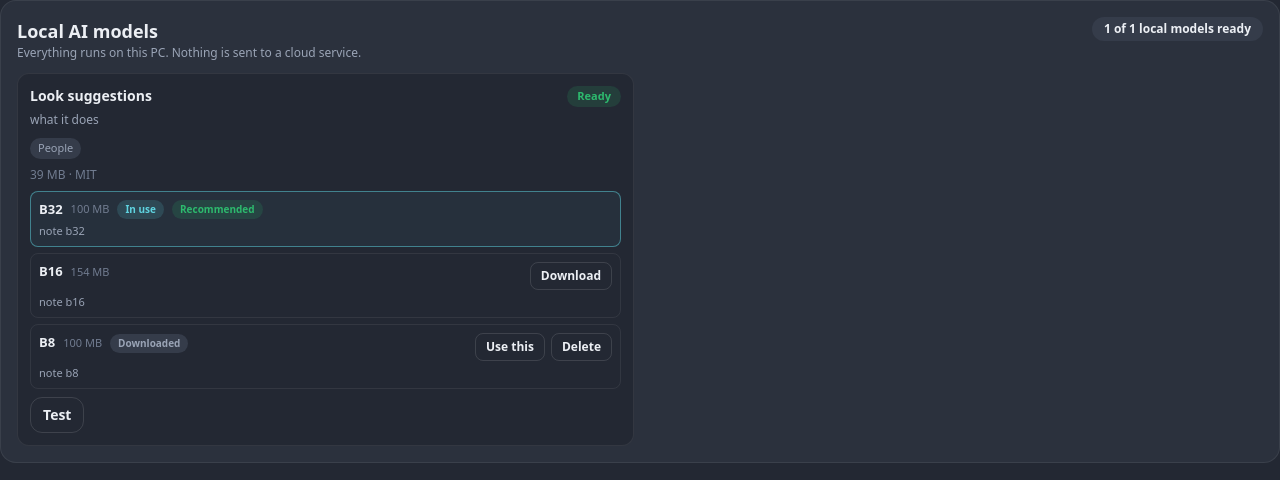
model sizes › Delete asks once more before anything is removed, and says how much space came back
The image size is (1280, 480).
Click the button with aria-label "Delete the b8 size of Look suggestions" at {"x": 582, "y": 347}, box [551,333,612,361]
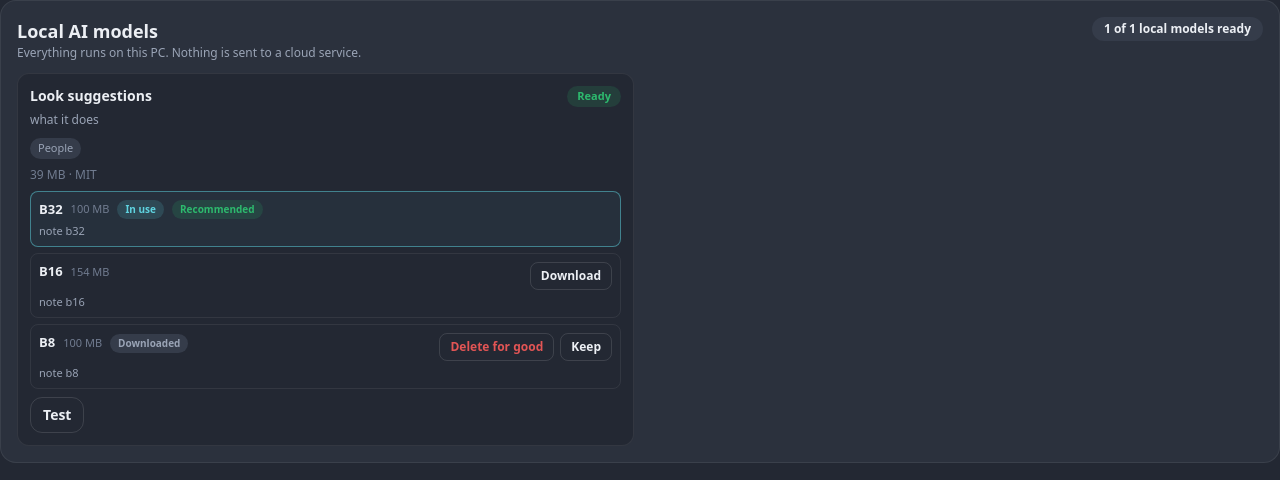
Click the button "Keep" at {"x": 586, "y": 347}, box [560,333,612,361]
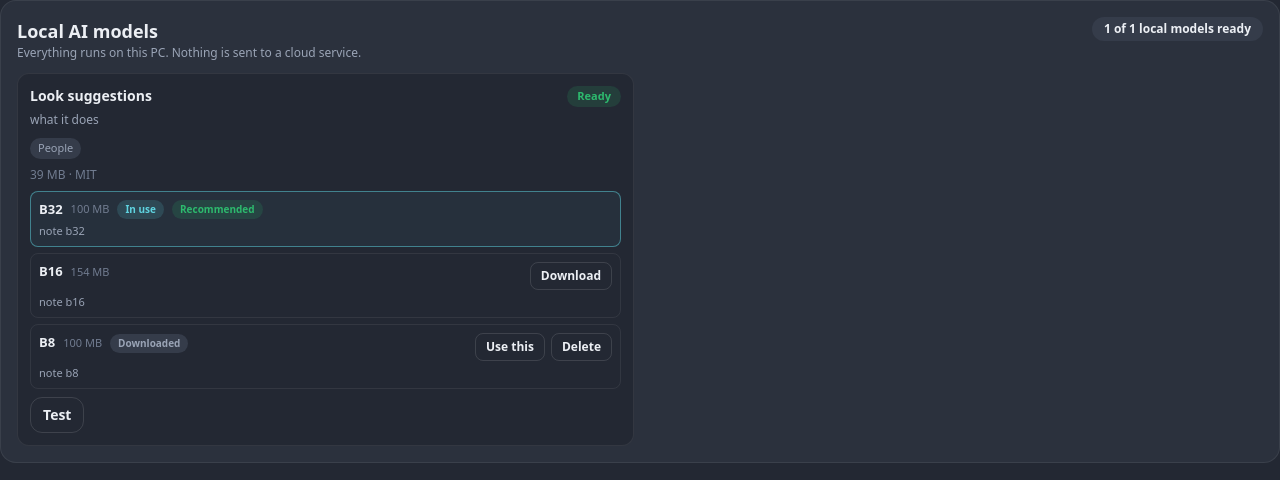
Click the button with aria-label "Delete the b8 size of Look suggestions" at {"x": 582, "y": 347}, box [551,333,612,361]
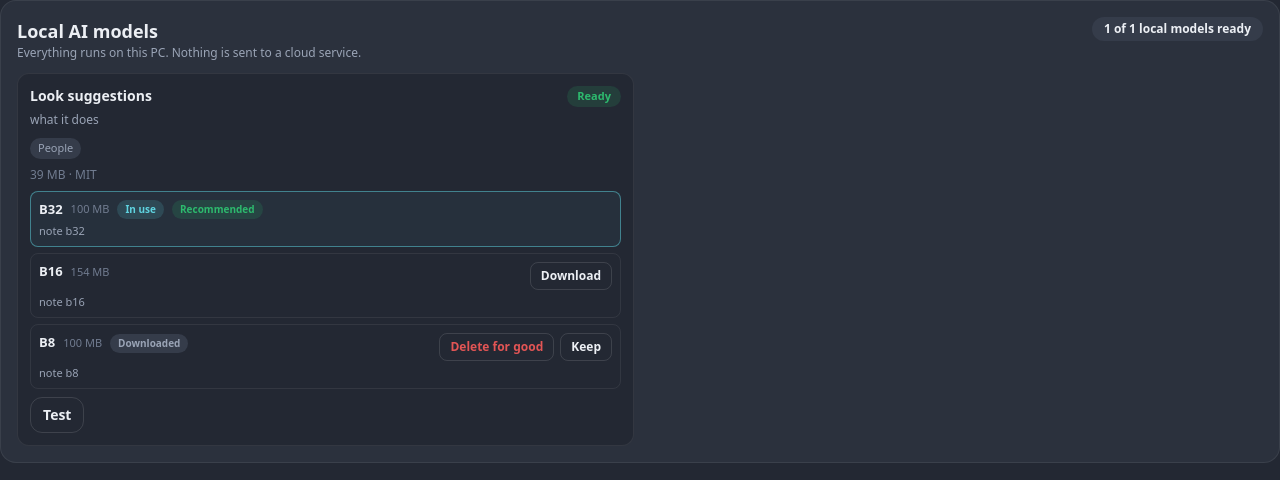
Click the button "Delete for good" at {"x": 497, "y": 347}, box [439,333,554,361]
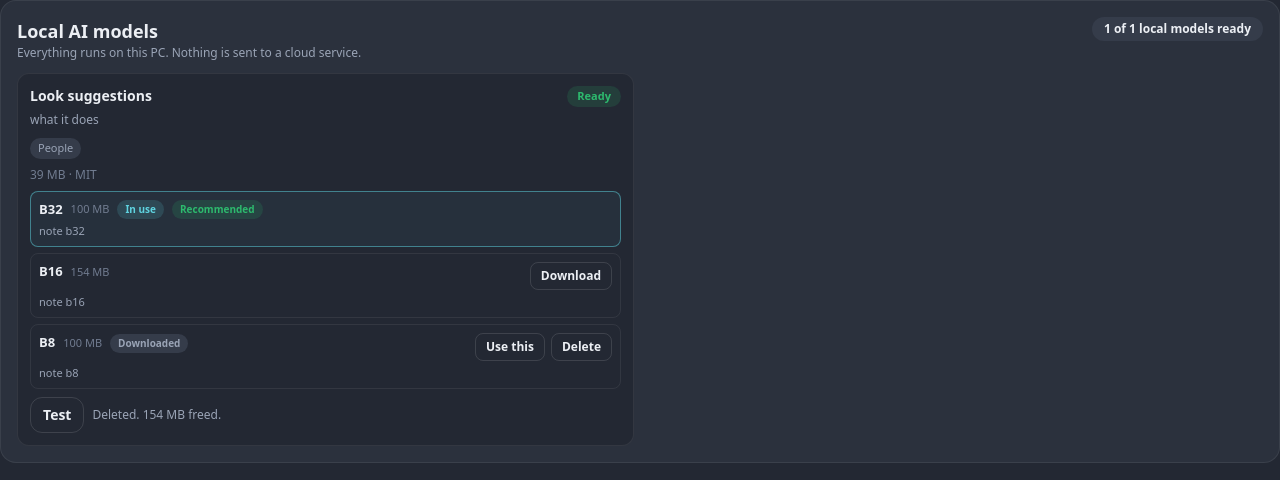
Now the text "Deleted. 154 MB freed." is shown, box [92,407,221,423]
